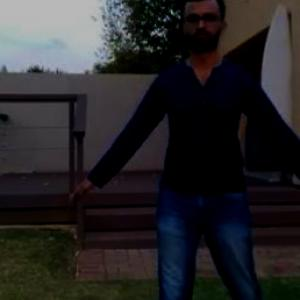land: (74, 0, 299, 298)
